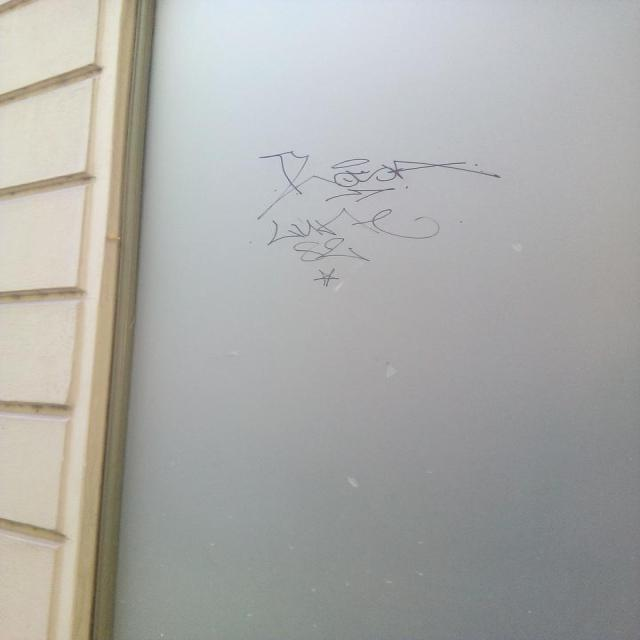nonspitting: (256, 150, 500, 286)
